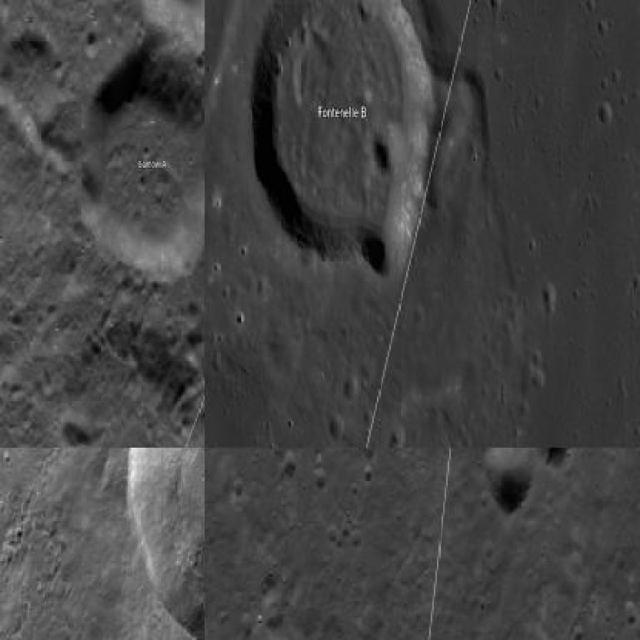crater: (252, 0, 429, 255), (79, 43, 203, 282), (129, 448, 203, 638), (486, 448, 534, 517), (363, 231, 409, 277), (534, 448, 578, 474)
